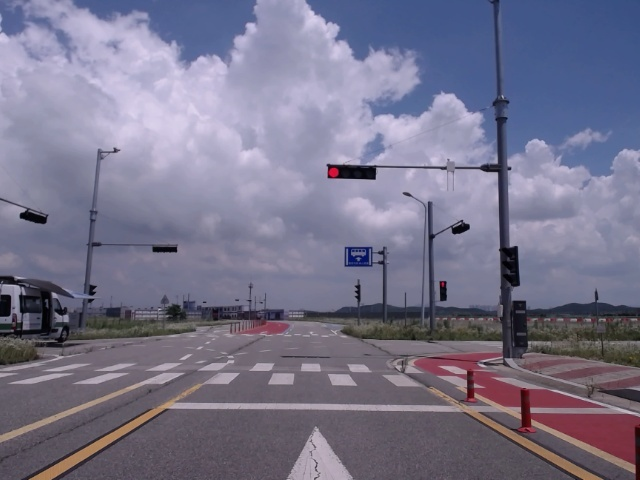red_4: (328, 167, 376, 179)
